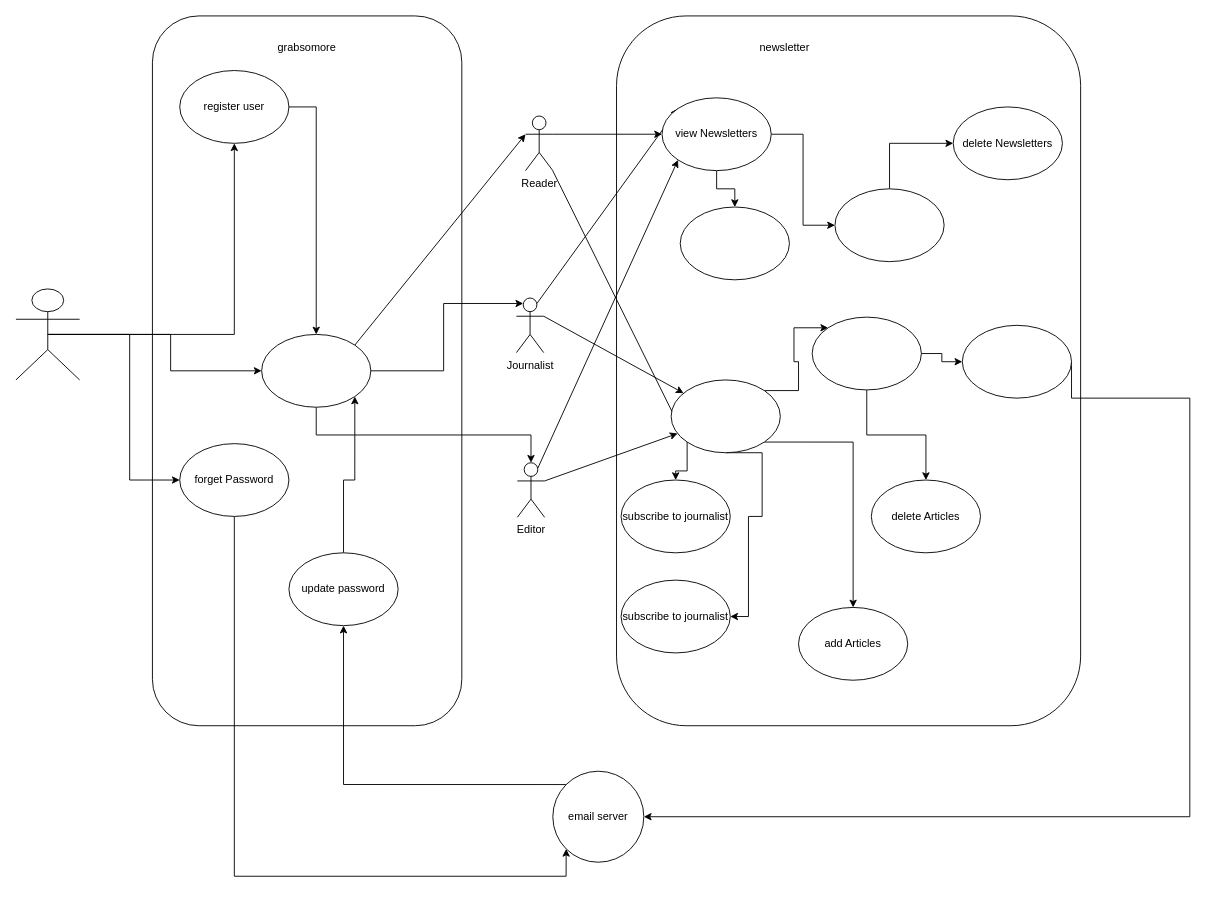
Image size: 1213x900. Some labels were removed from this diagram. The centre of each missing label's shape, as x and y in pixels:
"add Newsletters" goes at point (734, 243).
"approve article" goes at point (1016, 361).
"edit Article" goes at point (866, 353).
"edit Newsletter" goes at point (889, 225).
"Login" goes at point (316, 370).
"User" goes at point (47, 334).
"view Articles" goes at point (725, 416).
